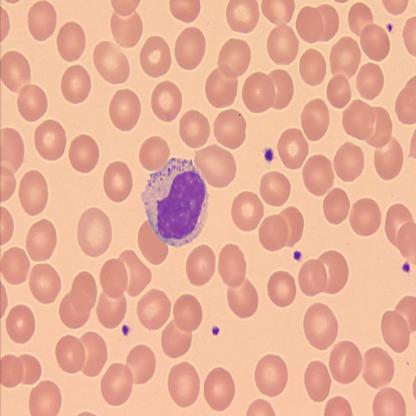Lymphocyte: (142, 157, 210, 247)
